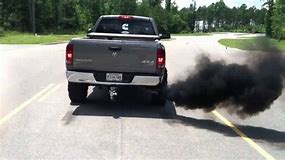smoke: (167, 46, 285, 118)
